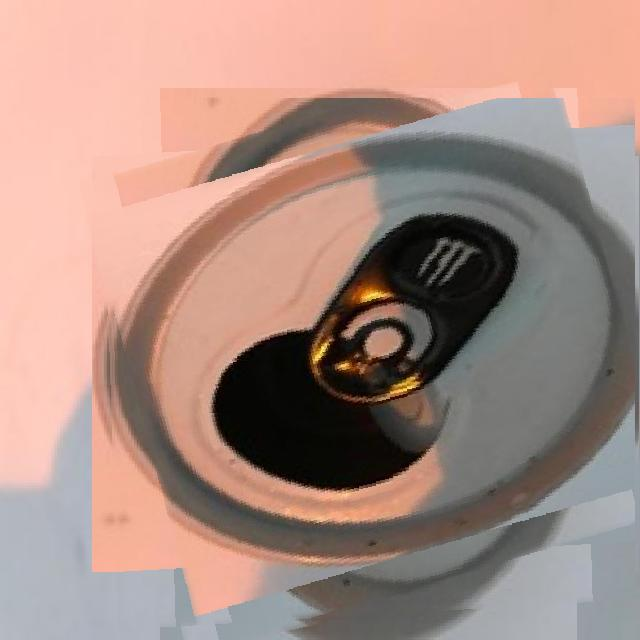recyclable: (102, 98, 635, 630)
